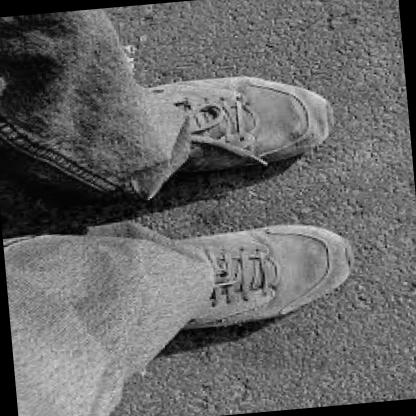ankle: (167, 266, 178, 275), (169, 135, 173, 139)
heel: (132, 171, 138, 176), (134, 246, 138, 249)
left_foot: (118, 70, 339, 183)
pinky: (307, 289, 325, 300), (269, 86, 279, 93)
right_foot: (126, 220, 358, 335)
toe: (308, 237, 323, 243), (288, 135, 300, 142)
